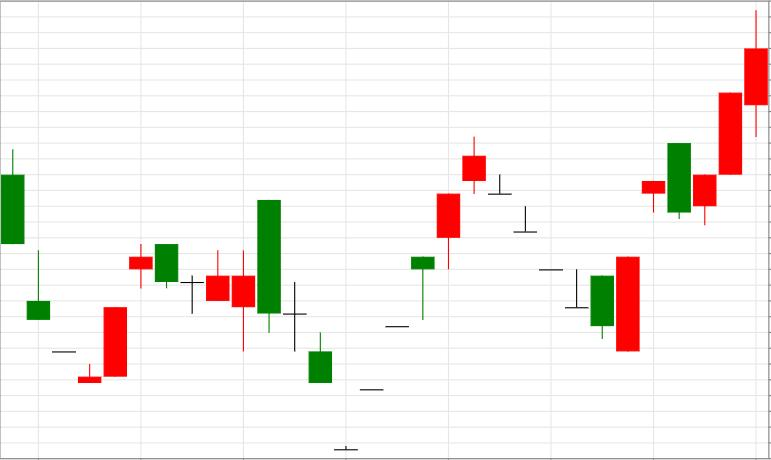bearish_engulfing_fall: (78, 243, 178, 384)
bullish_engulfing_rise: (462, 136, 639, 352)
